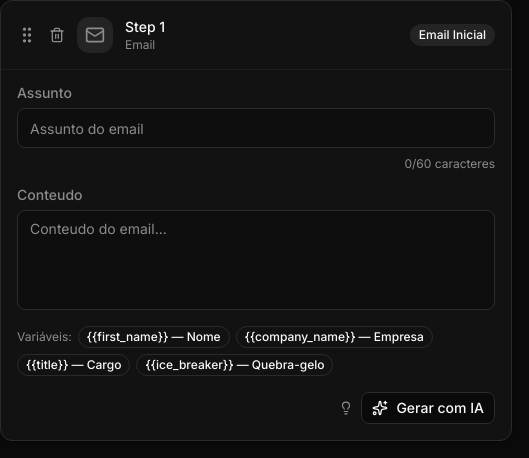
EmailBlock (AC: #2, #3, #4, #5) › Subject Character Count (Story 6.7 AC: #5) › updates count in real-time as user types
Expected: the text with test id "subject-char-count" reads "0/60 caracteres", [404,156,495,171]
Type some text
In the field with test id "email-subject-input": (256, 128) [17,108,495,148], type "Test subject"
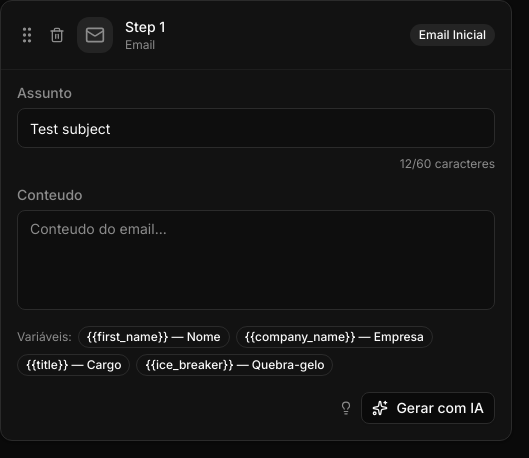
Now the text with test id "subject-char-count" reads "12/60 caracteres", box [400,156,495,171]
